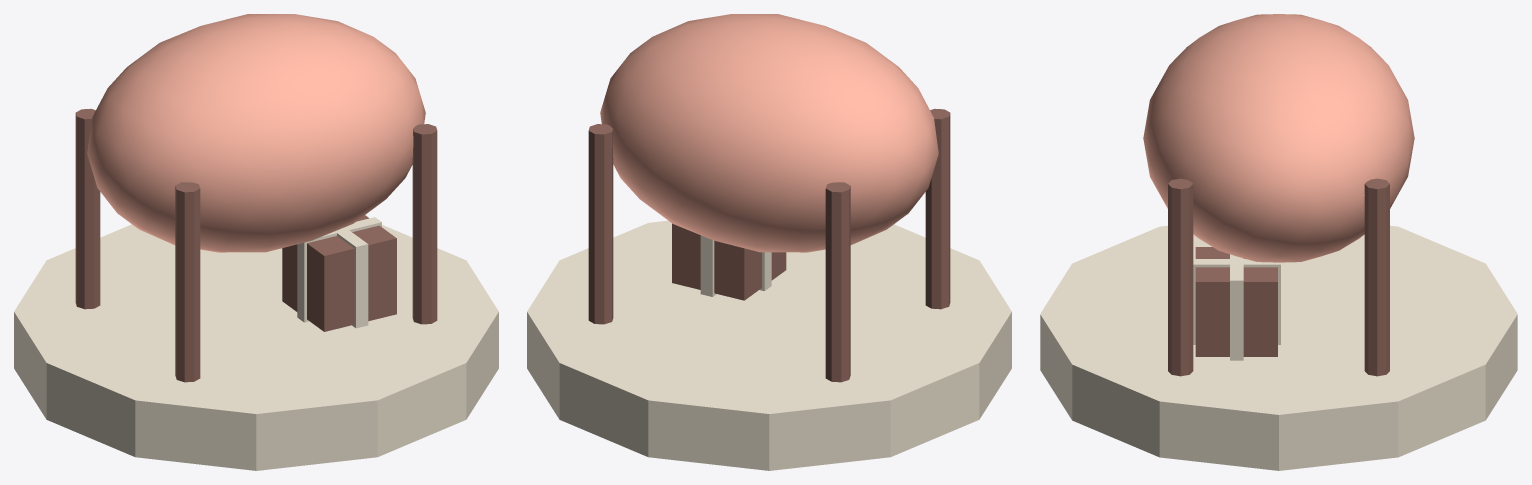
The model's file is market.glb.
The picture shows the model from 3 angles, left to right: view 1: azimuth 30°, elevation 25°; view 2: azimuth 150°, elevation 25°; view 3: azimuth 270°, elevation 25°; orthographic projection.
Parts seen in each view (by area): view 1: Building foundation, Nacre shell, Supply crate, Market stilt, Market stilt.002, Market stilt.001, Crate band.001, Crate band; view 2: Building foundation, Nacre shell, Market stilt.001, Market stilt.003, Supply crate, Market stilt, Crate band.001; view 3: Building foundation, Nacre shell, Supply crate, Market stilt.002, Market stilt.003, Crate band, Crate band.001.
Part boxes in pixels (x1,y1,x2,y2): Building foundation: (14,224,498,470); Nacre shell: (87,14,425,252); Supply crate: (282,215,396,331); Market stilt: (175,182,200,382); Market stilt.002: (412,124,437,324); Market stilt.001: (75,108,100,309); Crate band.001: (335,227,368,328); Crate band: (297,217,381,322); Building foundation: (527,220,1011,470); Nacre shell: (600,14,938,252); Market stilt.001: (825,182,850,382); Market stilt.003: (588,124,613,324); Supply crate: (672,223,786,300); Market stilt: (925,108,950,309); Crate band.001: (700,235,716,296); Building foundation: (1040,225,1517,470); Nacre shell: (1143,14,1414,262); Supply crate: (1195,247,1277,356); Market stilt.002: (1168,178,1193,376); Market stilt.003: (1364,178,1389,376); Crate band: (1230,254,1243,360); Crate band.001: (1193,259,1280,344).
Size of the model in its own units: 0.085 by 0.0655 by 0.085.
